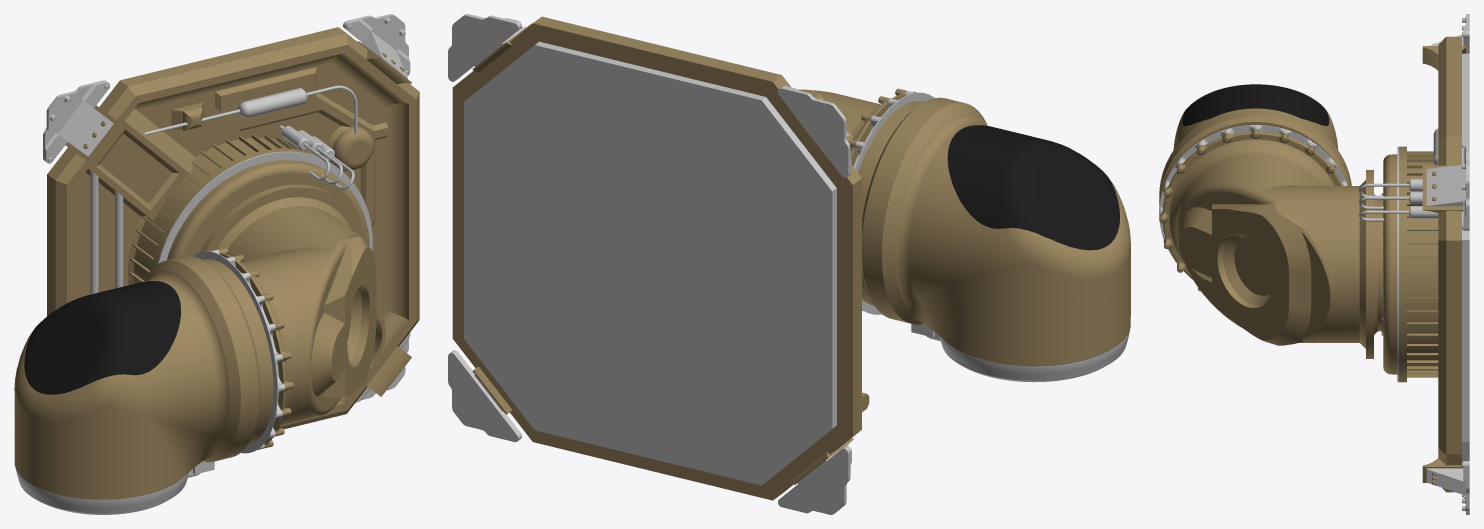
The model's file is Mobile LaserAntenna.fbx.
The picture shows the model from 3 angles, left to right: view 1: azimuth 30°, elevation 25°; view 2: azimuth 150°, elevation 25°; view 3: azimuth 270°, elevation 25°; orthographic projection. The views are drawn at different scales.
Visible parts, largest first — view 1: Primary1, Primary3, Primary2, Trim22, Trim13, Trim113, Trim11, Trim12, Trim111, Trim16, Trim110, Trim19; view 2: Trim21, Primary3, Primary1, Trim22, Trim15, Trim13, Trim12, Trim113, Trim14, Primary2, Trim111; view 3: Primary2, Primary1, Primary3, Trim22, Trim21, Trim12, Trim111, Trim15, Trim17, Trim18, Trim11, Trim19.
Boxes of the visible parts, x1,y1,x2,y2 form: Primary1: [47, 27, 419, 429]; Primary3: [14, 256, 273, 499]; Primary2: [200, 184, 376, 448]; Trim22: [24, 281, 180, 394]; Trim13: [43, 80, 113, 163]; Trim113: [16, 469, 200, 514]; Trim11: [157, 151, 372, 263]; Trim12: [343, 14, 410, 78]; Trim111: [193, 249, 285, 453]; Trim16: [90, 170, 372, 367]; Trim110: [144, 85, 357, 135]; Trim19: [279, 125, 330, 181]; Trim21: [464, 41, 836, 485]; Primary3: [858, 97, 1130, 366]; Primary1: [452, 16, 869, 500]; Trim22: [947, 125, 1119, 250]; Trim15: [448, 350, 521, 442]; Trim13: [778, 85, 851, 177]; Trim12: [448, 14, 525, 81]; Trim113: [926, 330, 1129, 382]; Trim14: [778, 443, 851, 514]; Primary2: [797, 88, 916, 166]; Trim111: [853, 91, 934, 314]; Primary2: [1159, 128, 1381, 358]; Primary1: [1381, 36, 1465, 492]; Primary3: [1159, 108, 1351, 205]; Trim22: [1182, 84, 1329, 125]; Trim21: [1462, 53, 1469, 462]; Trim12: [1426, 141, 1469, 230]; Trim111: [1159, 125, 1347, 265]; Trim15: [1426, 461, 1469, 514]; Trim17: [1358, 206, 1438, 221]; Trim18: [1358, 192, 1422, 209]; Trim11: [1397, 146, 1398, 382]; Trim19: [1358, 179, 1422, 197].
Size of the model in its own units: 0.6799 by 0.5 by 0.395.
